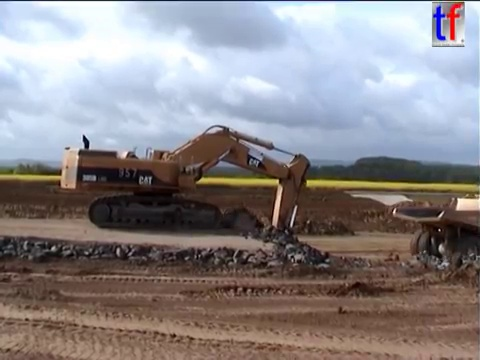excavator: (58, 122, 317, 271)
truck: (390, 193, 480, 270)
